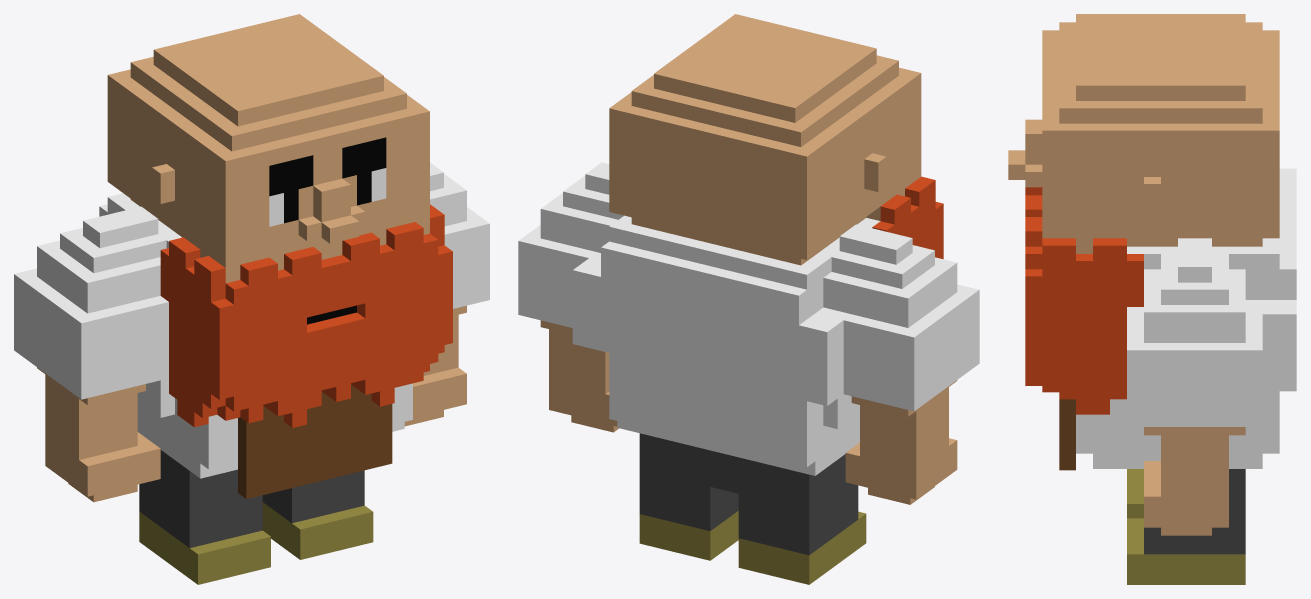
The model's file is blacksmith.obj.
3 views of the same model, side by side, from view 1: azimuth 30°, elevation 25°; view 2: azimuth 150°, elevation 25°; view 3: azimuth 270°, elevation 25° (orthographic). The views are drawn at different scales.
Bounding box in the file's own units: 28 × 32 × 17.
1 material, 1 textured.
